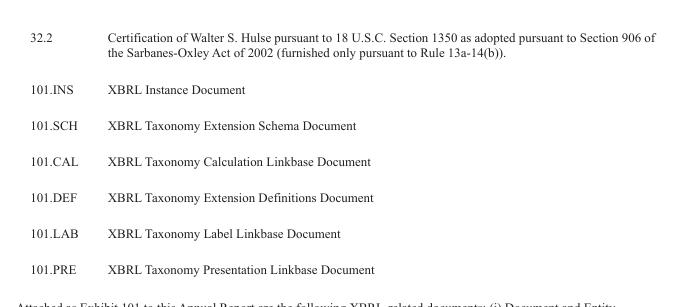table: (29, 29, 654, 276)
table column: (92, 29, 654, 276), (29, 29, 92, 276)
table row: (29, 29, 654, 70), (29, 70, 654, 106), (29, 106, 654, 142), (29, 142, 654, 178), (29, 178, 654, 214), (29, 214, 654, 250), (29, 250, 654, 276)
